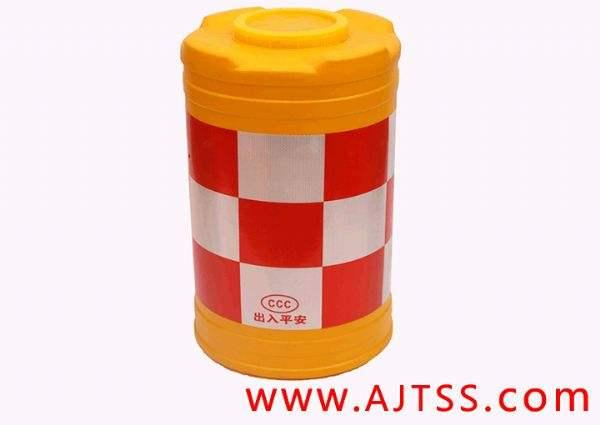sign: (177, 3, 401, 379)
